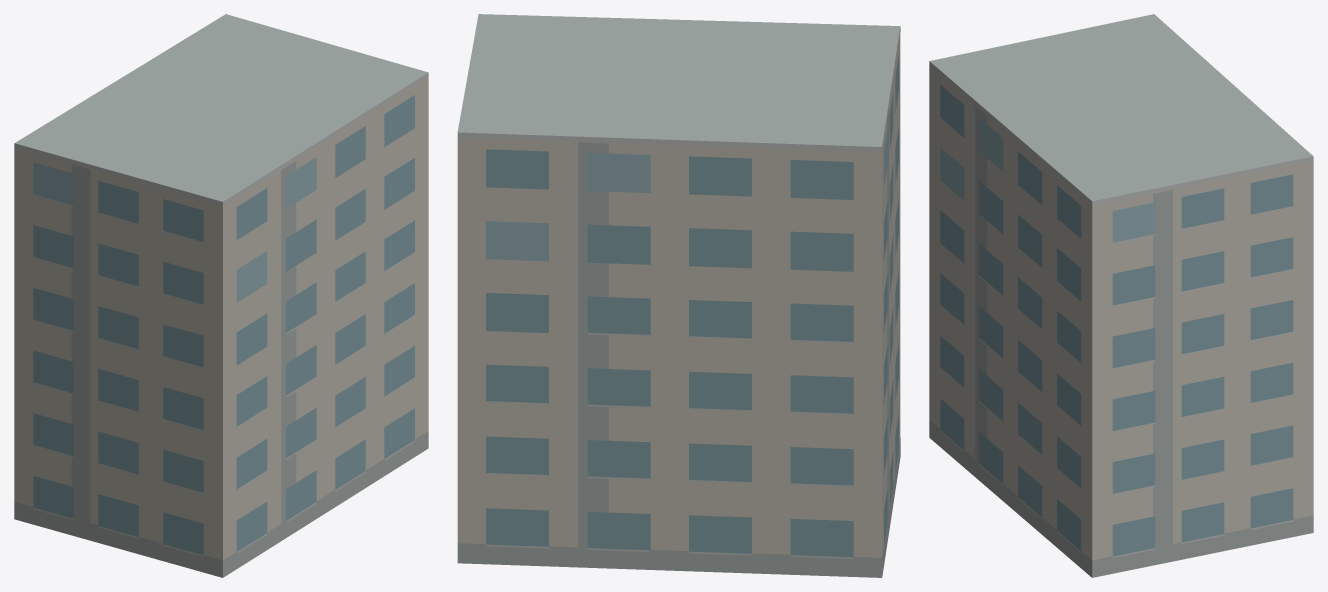
The model's file is survey-upis-32744404.glb.
The picture shows the model from 3 angles, left to right: view 1: azimuth 30°, elevation 25°; view 2: azimuth 150°, elevation 25°; view 3: azimuth 270°, elevation 25°; orthographic projection. The views are drawn at different scales.
Visible parts, largest first — view 1: survey-upis-32744404.tmp; view 2: survey-upis-32744404.tmp; view 3: survey-upis-32744404.tmp.
Boxes of the visible parts, x1,y1,x2,y2 form: survey-upis-32744404.tmp: [14, 14, 428, 577]; survey-upis-32744404.tmp: [457, 14, 900, 577]; survey-upis-32744404.tmp: [929, 14, 1313, 577].
Bounding box in the file's own units: 19.53 × 18.3 × 16.93.
